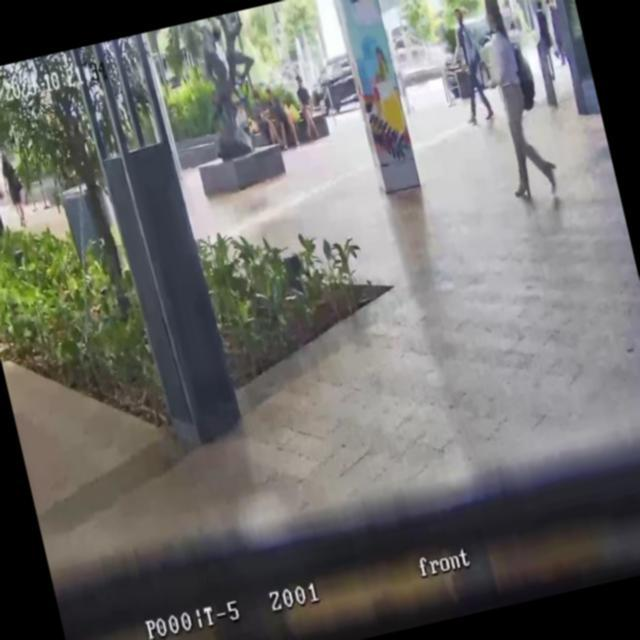person: (468, 0, 562, 206), (443, 6, 497, 128), (526, 2, 562, 84), (0, 147, 31, 229), (262, 88, 292, 152), (292, 74, 320, 142), (542, 0, 569, 65), (246, 89, 274, 148), (232, 100, 255, 153), (283, 96, 305, 146)
